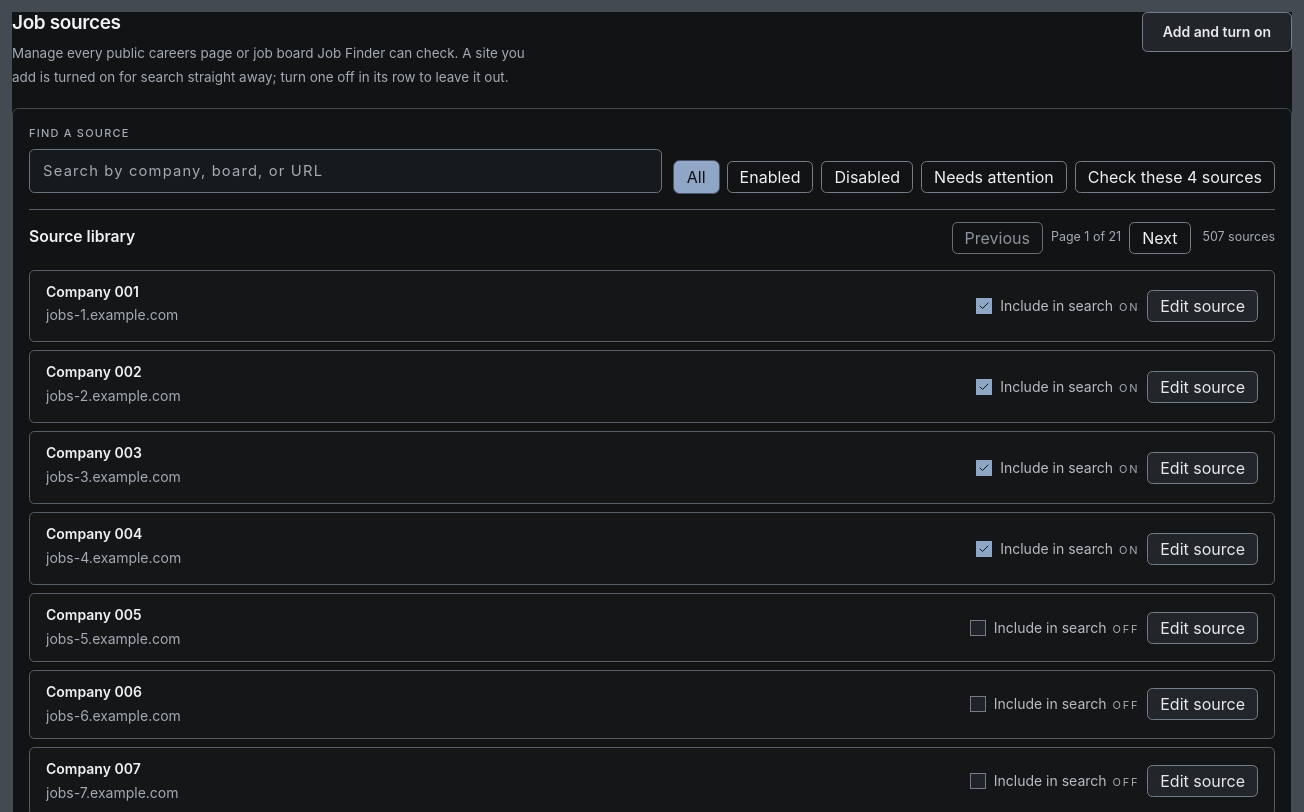
Test: ProfileJobSourcesTab › keeps a compact top source pager reachable beside the Source library heading
Expected: the button with aria-label "Previous source page (top of list)" is disabled, [952,222,1043,254]
Expected: the text "Page 1 of 21" is shown, [1051,228,1121,247]
Click the button with aria-label "Next source page (top of list)": (1160, 238) [1129,222,1190,254]
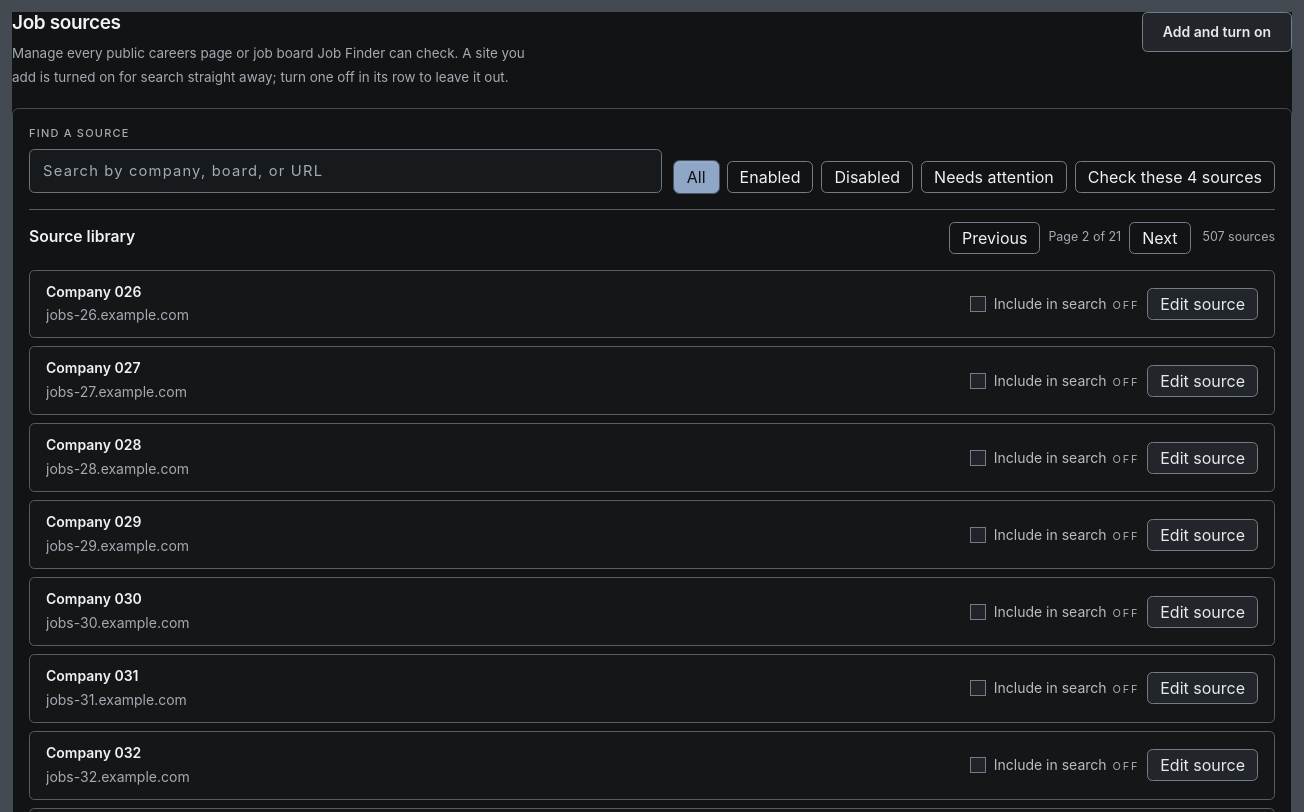
Now the heading "Company 026" is shown, box [46,282,141,301]
Now the heading "Company 001" is gone
Now the button with aria-label "Previous source page (top of list)" is enabled, box [949,222,1040,254]
